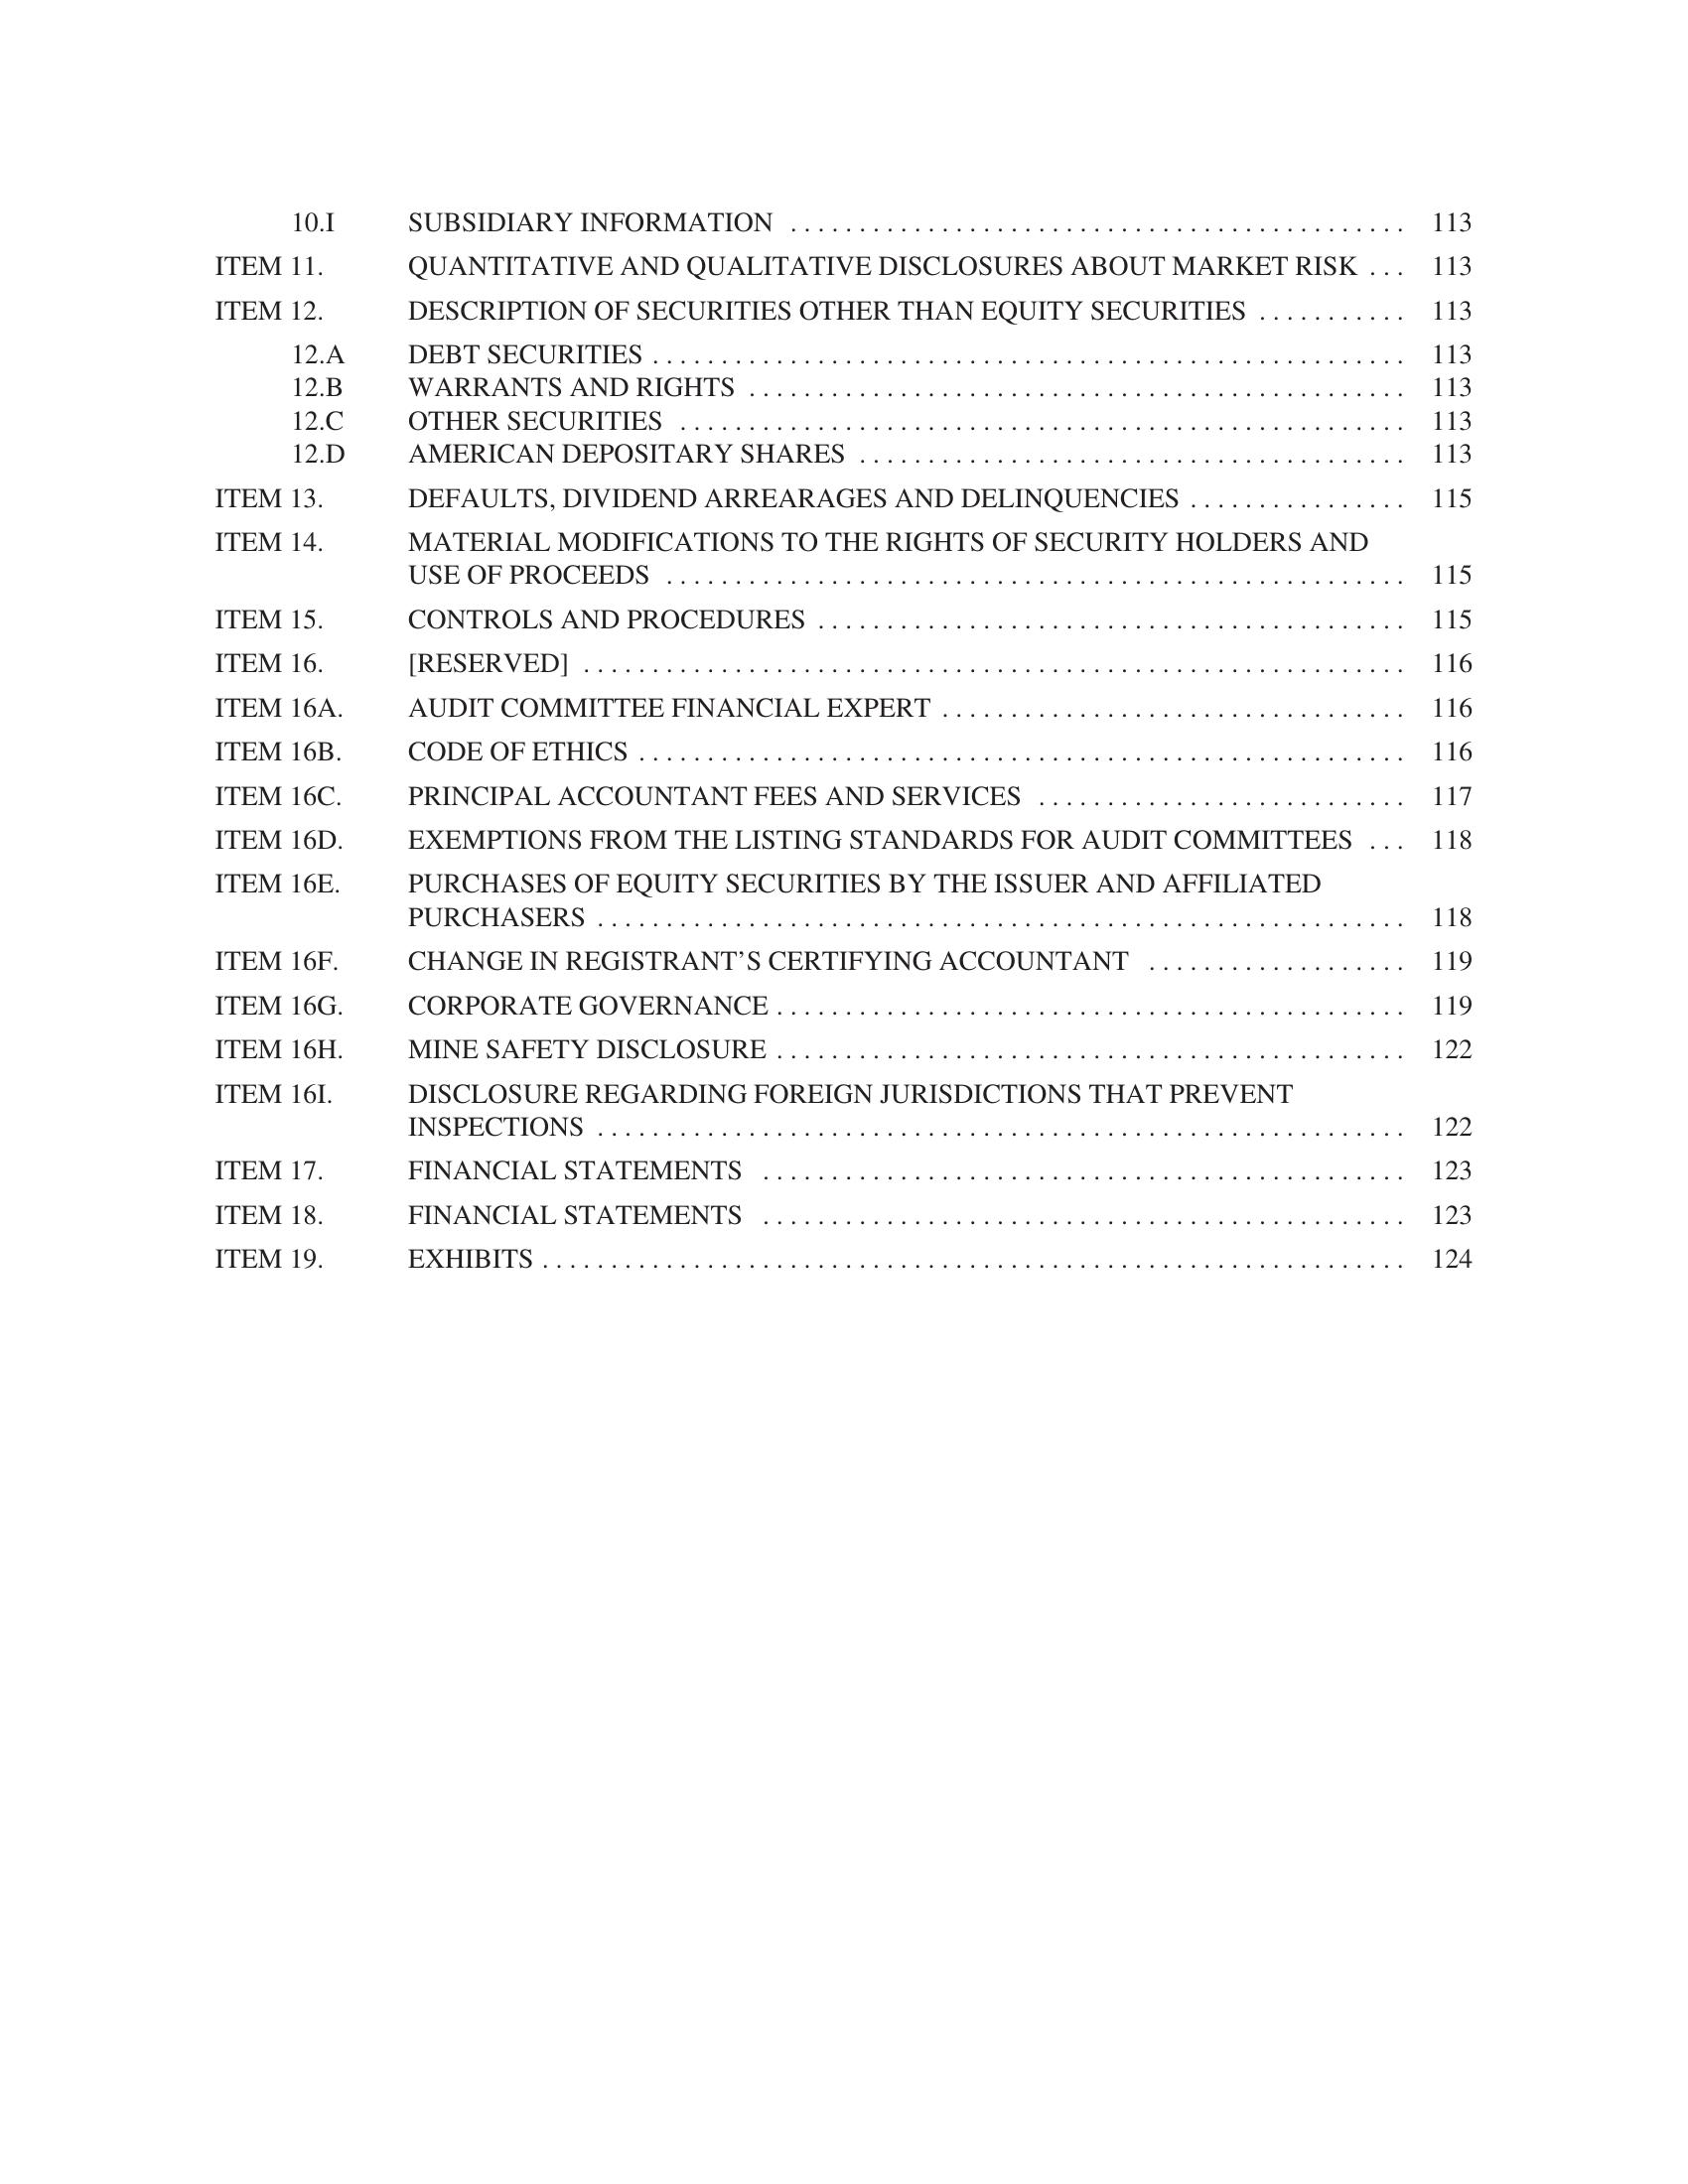Footer: (0, 2001, 1688, 2184)
Header: (0, 0, 1688, 188)
